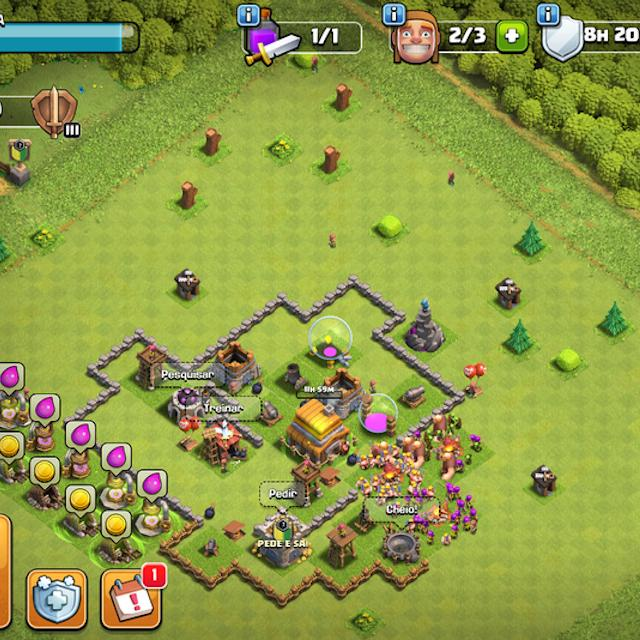Elixir: (137, 468, 167, 504), (102, 443, 132, 477), (30, 393, 60, 426), (66, 420, 96, 453), (0, 363, 25, 397)
coin: (101, 509, 132, 544), (66, 484, 96, 518), (30, 457, 60, 490), (0, 432, 24, 463)
